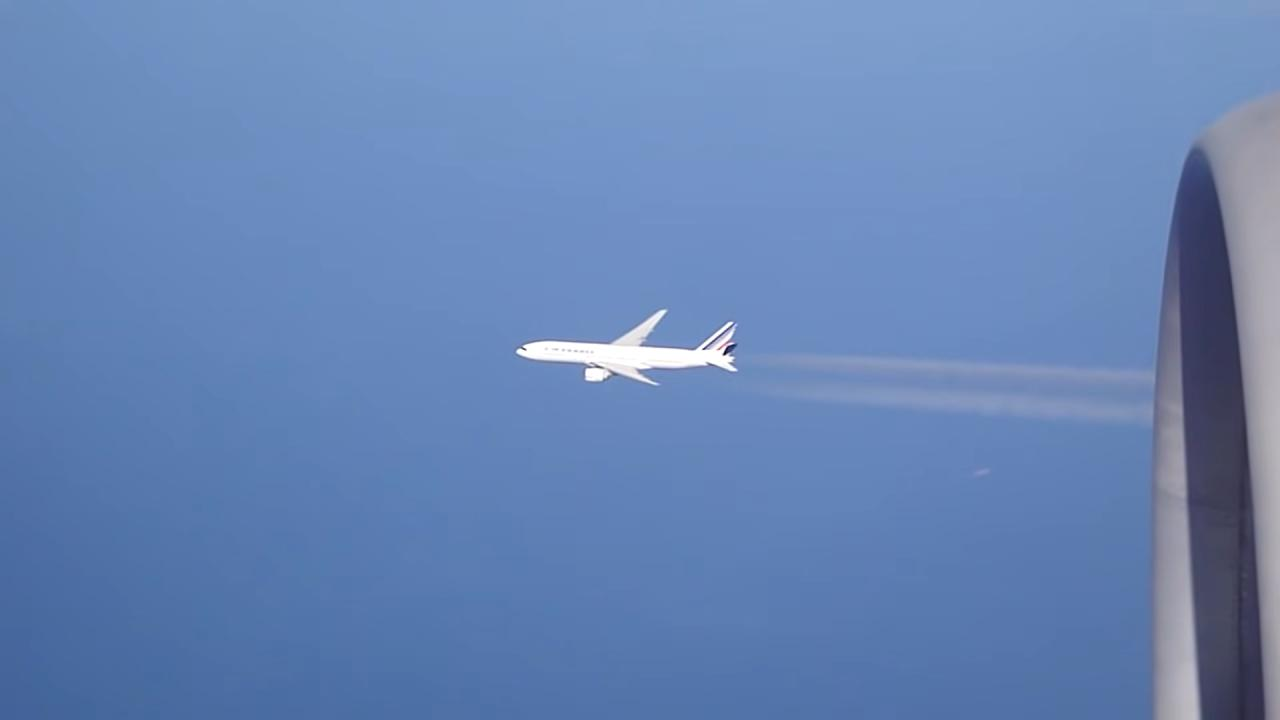Airplane: (503, 294, 757, 399)
